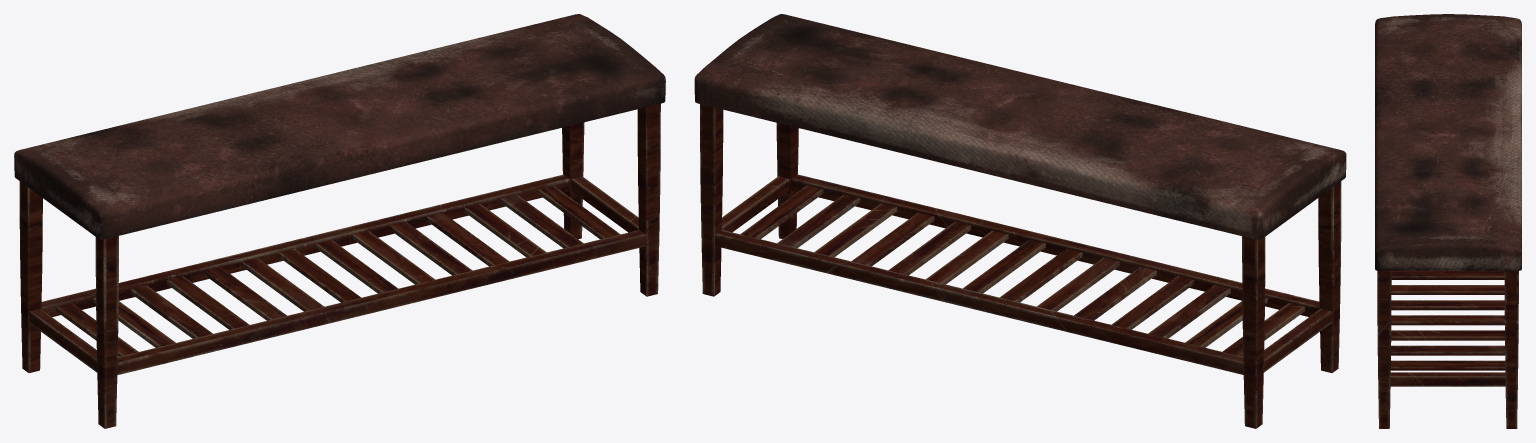
Rendered from Prop_LeatherSeat.fbx.
3 renders of one model, left to right at view 1: azimuth 30°, elevation 25°; view 2: azimuth 150°, elevation 25°; view 3: azimuth 270°, elevation 25°, orthographic. The views are drawn at different scales.
Visible parts, largest first — view 1: Prop_LeatherSeat; view 2: Prop_LeatherSeat; view 3: Prop_LeatherSeat.
Boxes of the visible parts, box(x1,y1,x2,y2) form: Prop_LeatherSeat: box(14, 14, 665, 428); Prop_LeatherSeat: box(694, 14, 1346, 428); Prop_LeatherSeat: box(1375, 14, 1521, 428).
Size of the model in its own units: 77.25 by 29.22 by 20.73.
